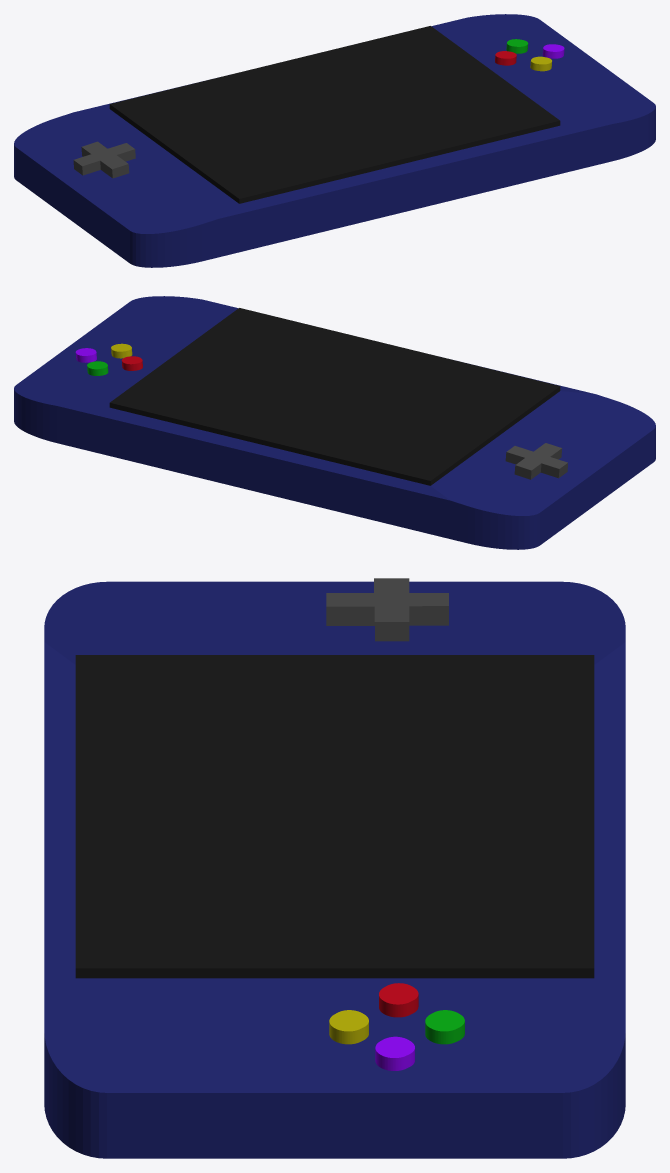
File: gameboy.fbx
The picture shows the model from 3 angles, top to bottom: view 1: azimuth 30°, elevation 25°; view 2: azimuth 150°, elevation 25°; view 3: azimuth 270°, elevation 25°; orthographic projection. The views are drawn at different scales.
Parts seen in each view (by area): view 1: Cube; view 2: Cube; view 3: Cube.
Part boxes in pixels (x1=…): Cube: x1=14, y1=14, x2=655, y2=267; Cube: x1=14, y1=296, x2=655, y2=549; Cube: x1=44, y1=578, x2=625, y2=1158.
Bounding box in the file's own units: 498 × 43.62 × 240.
